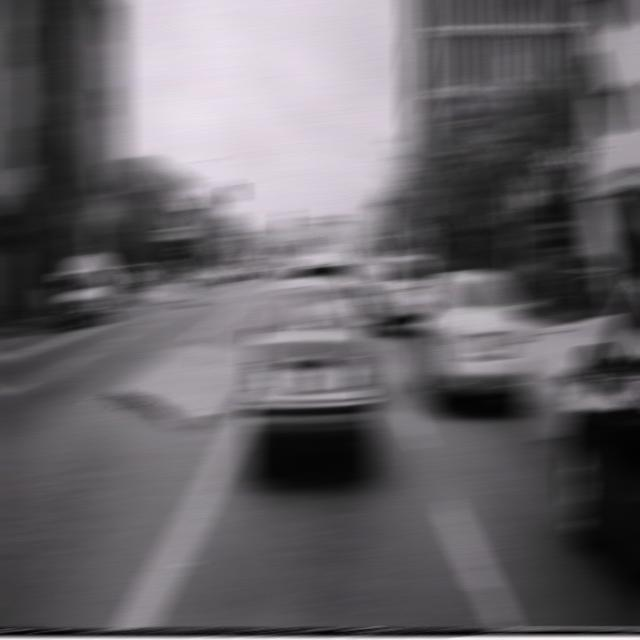noLeftTurn: (195, 198, 218, 250)
